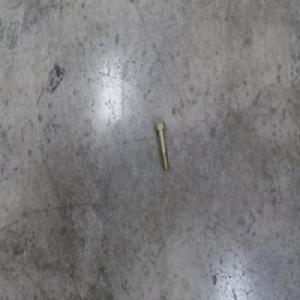Bolt: (154, 120, 169, 171)
